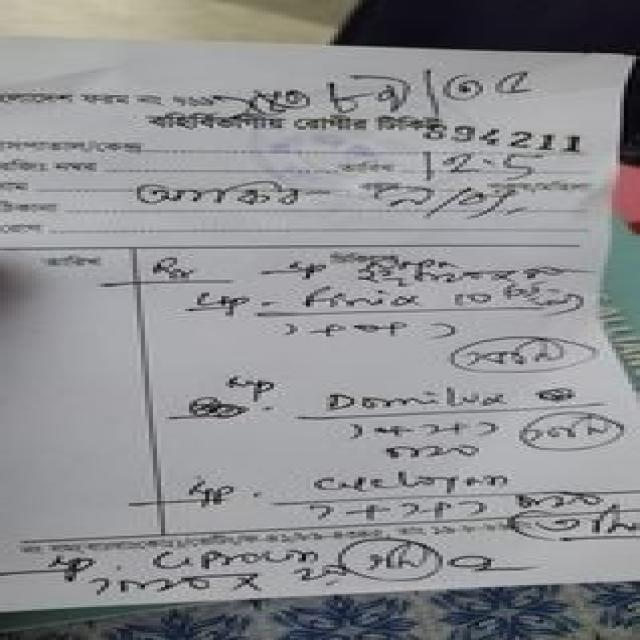Ciprocin: (139, 545, 330, 571)
Cyclopan: (298, 468, 527, 496)
Domilux: (301, 384, 533, 416)
Finix: (283, 282, 451, 314)
